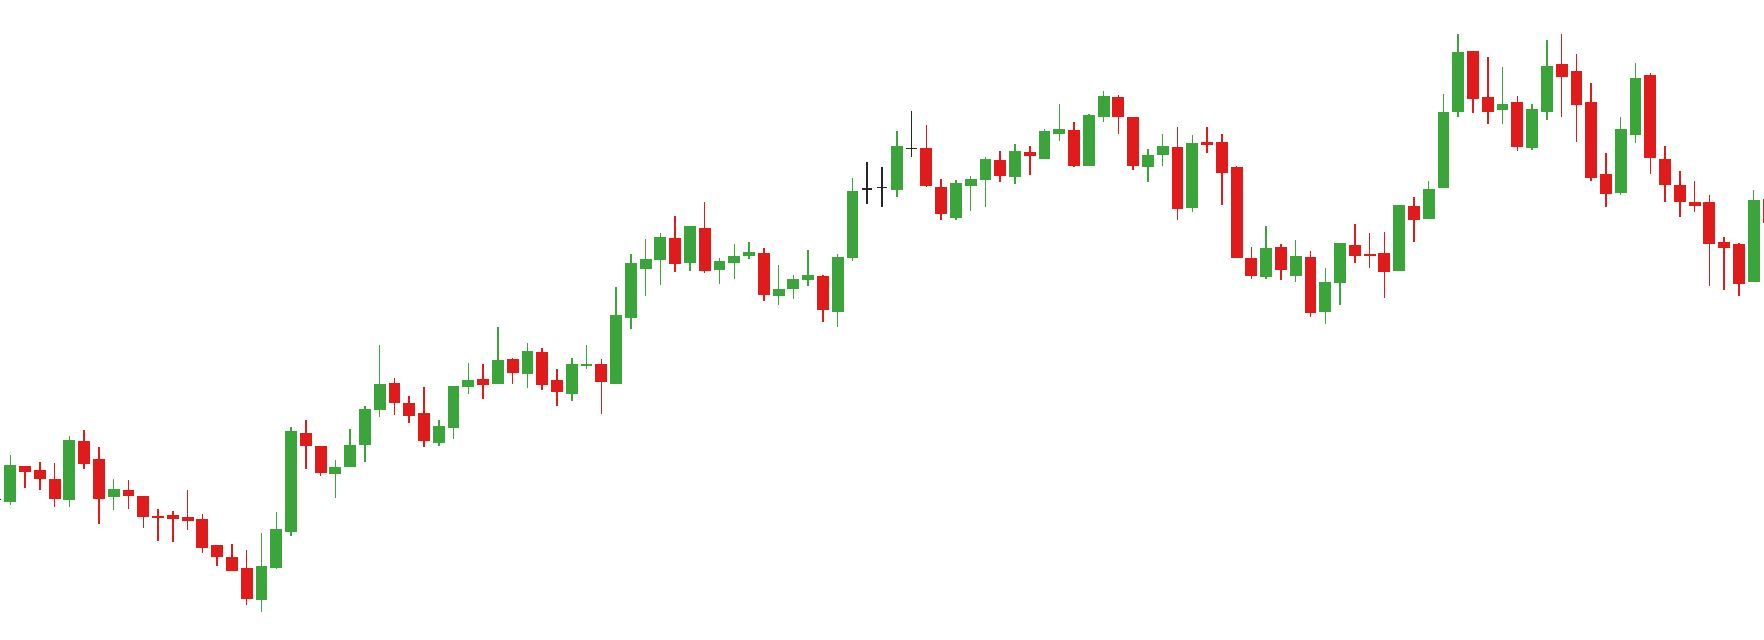sell: (1447, 30, 1568, 128)
